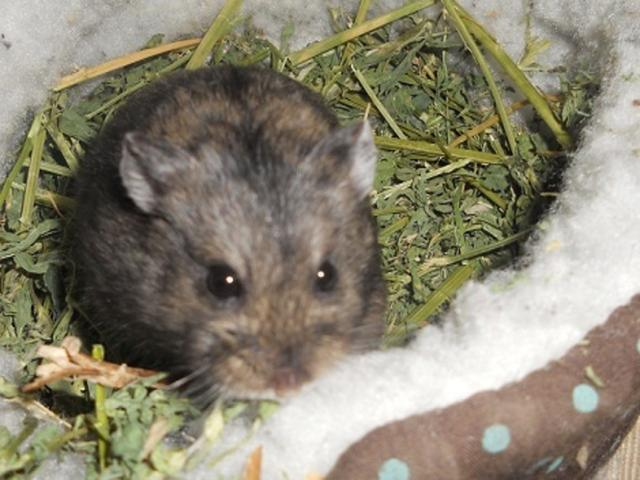mouse: (52, 50, 427, 429)
